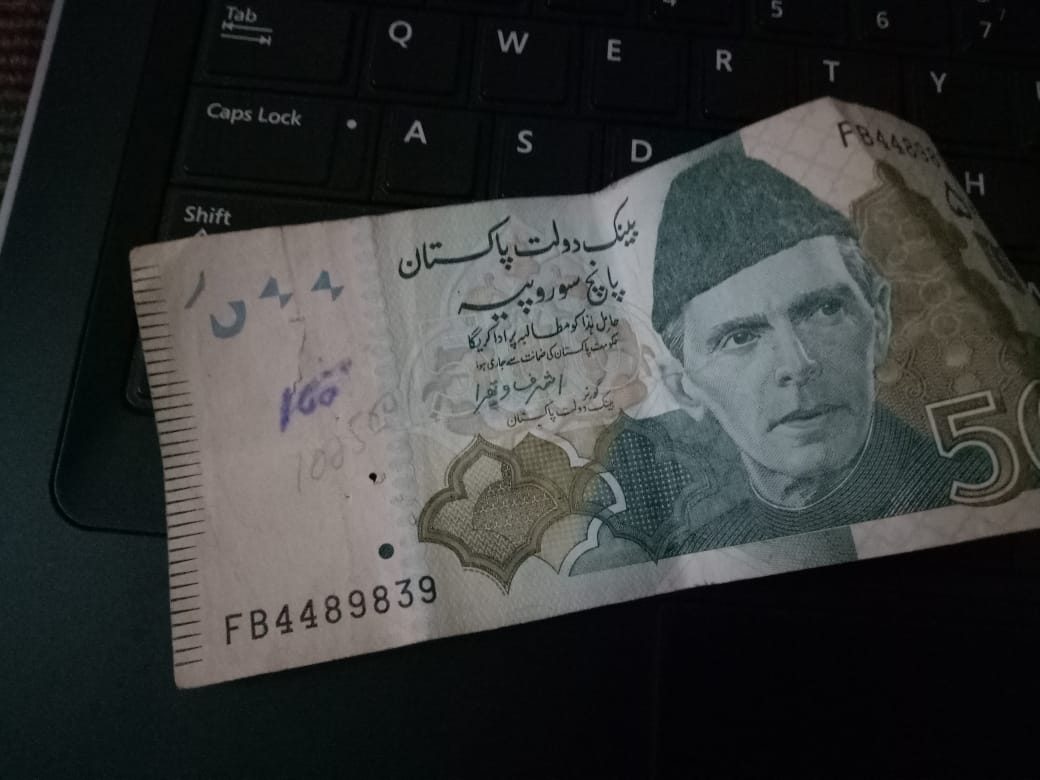500 rupee: (84, 143, 1034, 665)
